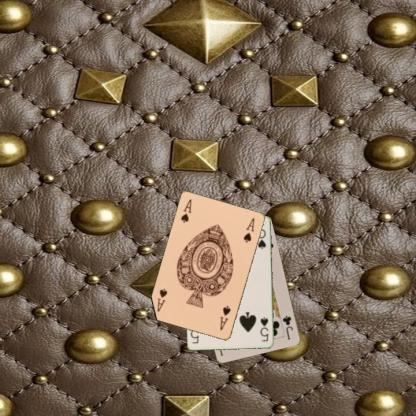5s: (258, 315, 270, 343)
As: (217, 303, 232, 332), (179, 197, 193, 224)
Jc: (280, 313, 294, 341)
